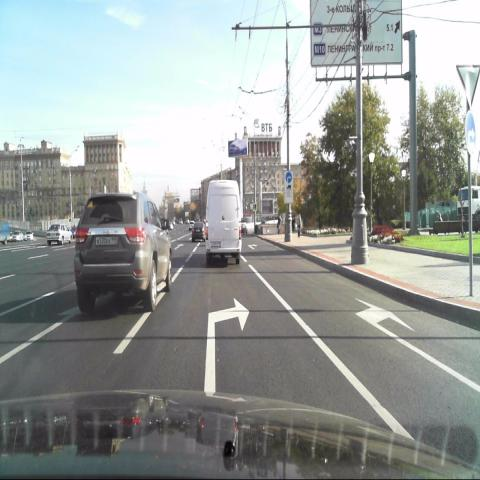4_1_2: (464, 109, 477, 156)
